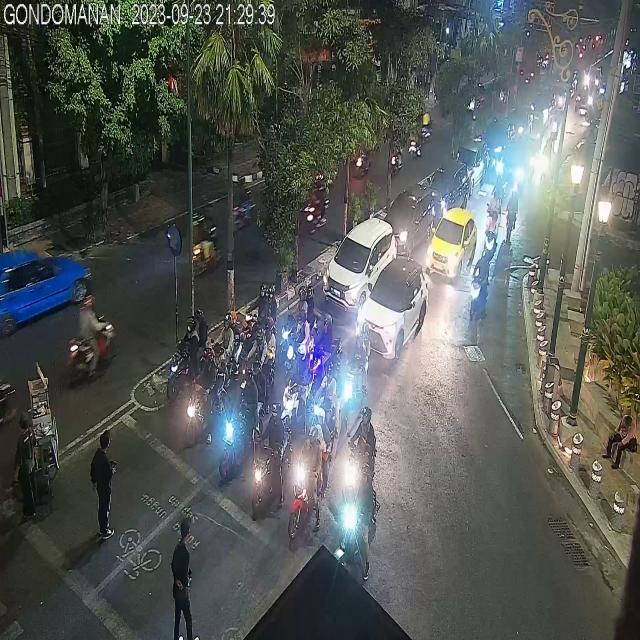car: (0, 237, 92, 332), (357, 257, 429, 357), (324, 215, 395, 304), (383, 187, 432, 256), (429, 206, 477, 276), (420, 158, 470, 218)
motorcycle: (336, 466, 378, 586), (67, 287, 117, 387), (184, 342, 225, 451), (288, 423, 325, 539), (167, 306, 210, 404), (250, 401, 287, 510), (280, 281, 315, 365), (281, 343, 313, 421), (348, 405, 377, 491), (310, 312, 341, 391), (344, 317, 371, 404), (189, 206, 220, 278), (313, 365, 342, 441), (232, 173, 256, 235), (469, 248, 486, 322), (484, 208, 498, 264)
